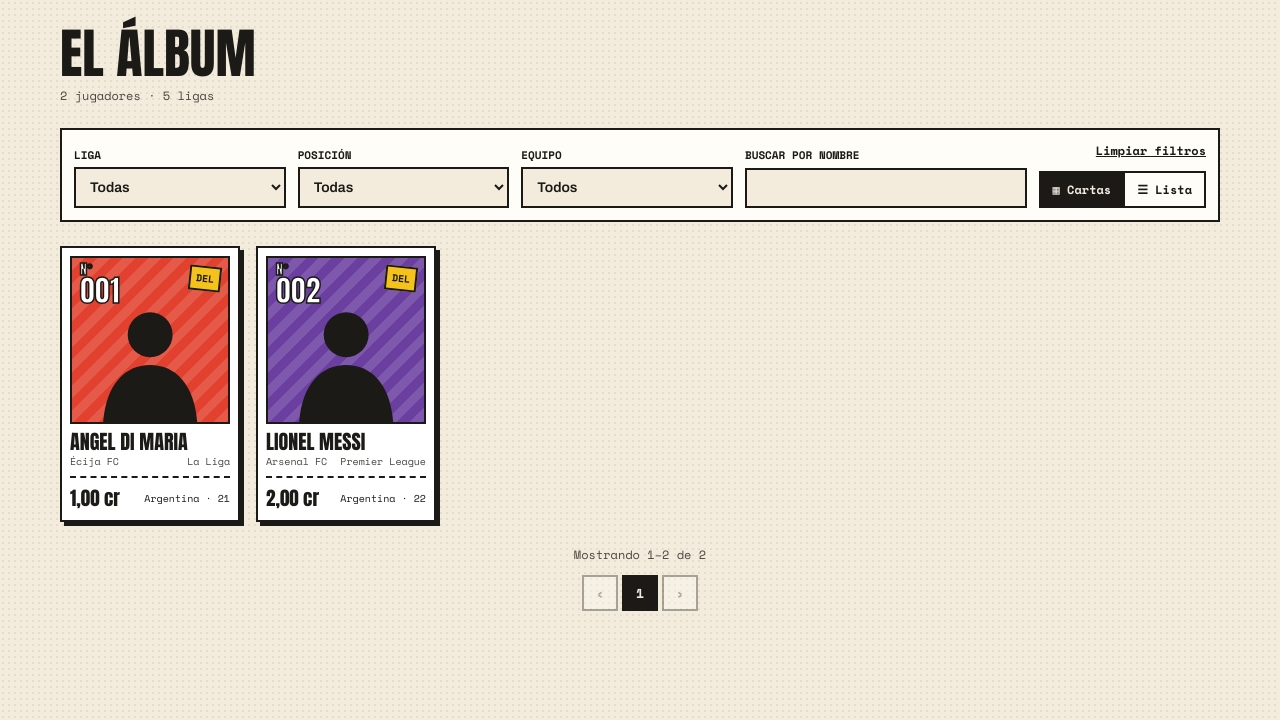
Test: AlbumPage › searches locally without accents or an additional request
Expected: the text "2 jugadores · 5 ligas" is shown, [60, 87, 214, 104]
Type "ANGEL" into the field labelled "Buscar por nombre" at (886, 188), box [745, 168, 1026, 208]
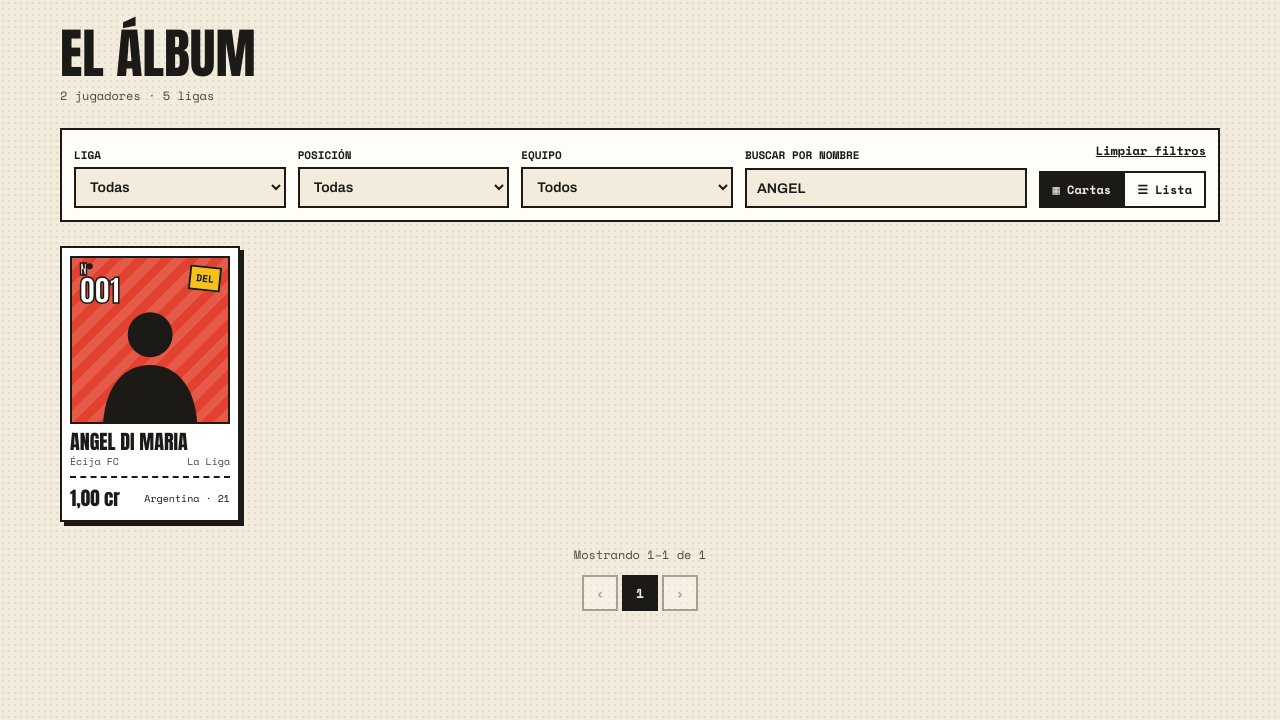
Expected: the element "Ángel Di María" is shown, [60, 246, 240, 522]
Expected: the link "Lionel Messi" is gone
